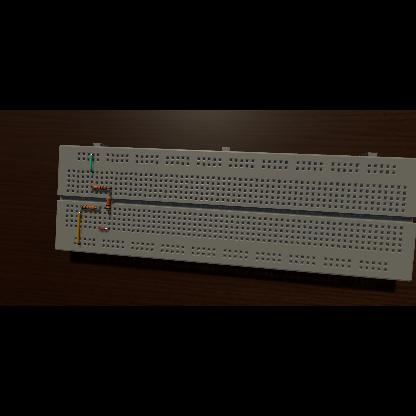breadboard: (56, 142, 416, 282)
resistor: (107, 197, 112, 211), (93, 186, 107, 190), (82, 206, 96, 210)
wire: (78, 212, 82, 245), (90, 154, 94, 173), (98, 228, 110, 230), (107, 188, 112, 190), (108, 194, 112, 196), (108, 211, 110, 214)
